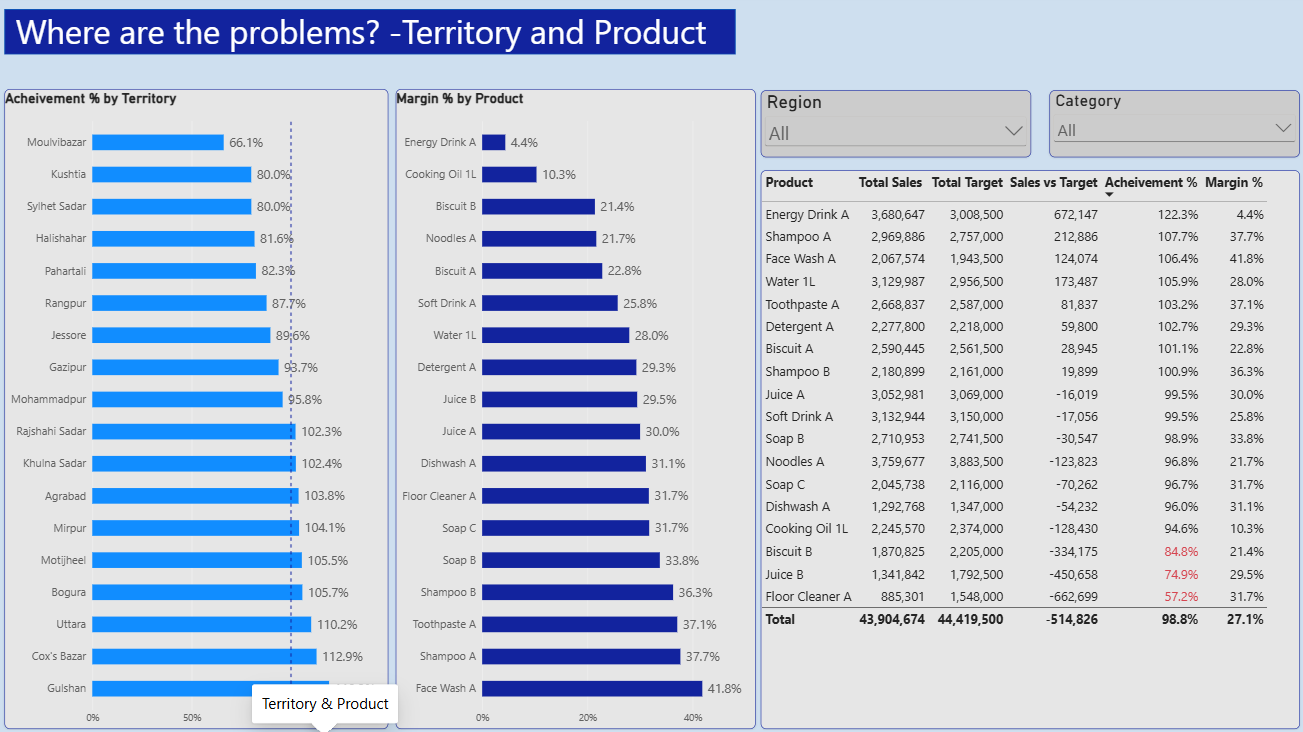

This screenshot's page, from the dashboard's own definition file:
{"tool":"powerbi","page":{"name":"Territory & Product","canvas":[1920,1080],"ordinal":1},"visuals":[{"type":"shape","box":[10.4,14.6,1072.7,66.8],"z":0},{"type":"textbox","box":[27.1,14.6,1035.1,66.8],"z":1000},{"type":"clusteredBarChart","title":"Acheivement % by Territory","fields":{"Category":["FactSales.Territory"],"Y":["FactSales.Acheivement %"]},"box":[10.4,131.5,563.5,939.1],"z":2000},{"type":"clusteredBarChart","title":"Margin % by Product","fields":{"Category":["FactSales.Product"],"Y":["FactSales.Margin %"]},"box":[584.3,131.5,528,939.1],"z":3000},{"type":"tableEx","fields":{"Values":["FactSales.Product","FactSales.Total Sales","FactSales.Total Target","FactSales.Sales vs Target","FactSales.Acheivement %","FactSales.Margin %"]},"box":[1120.7,250.4,791,820.2],"z":4000},{"type":"slicer","fields":{"Values":["FactSales.Region"]},"box":[1120.7,133.6,396.5,98.1],"z":5000},{"type":"slicer","fields":{"Values":["FactSales.Category"]},"box":[1544.3,133.6,367.3,98.1],"z":6000}]}

Visuals, with their boxes in screenshot pixels (x1, y1, x2, y2), scaled from the page's 1920x1080 canvas onto the 1303x732 screenshot:
shape: <bbox>7, 10, 735, 55</bbox>
textbox: <bbox>18, 10, 721, 55</bbox>
"Acheivement % by Territory" clusteredBarChart: <bbox>7, 89, 389, 726</bbox>
"Margin % by Product" clusteredBarChart: <bbox>397, 89, 755, 726</bbox>
tableEx - FactSales.Product x FactSales.Total Sales: <bbox>761, 170, 1297, 726</bbox>
slicer - FactSales.Region: <bbox>761, 91, 1030, 157</bbox>
slicer - FactSales.Category: <bbox>1048, 91, 1297, 157</bbox>
